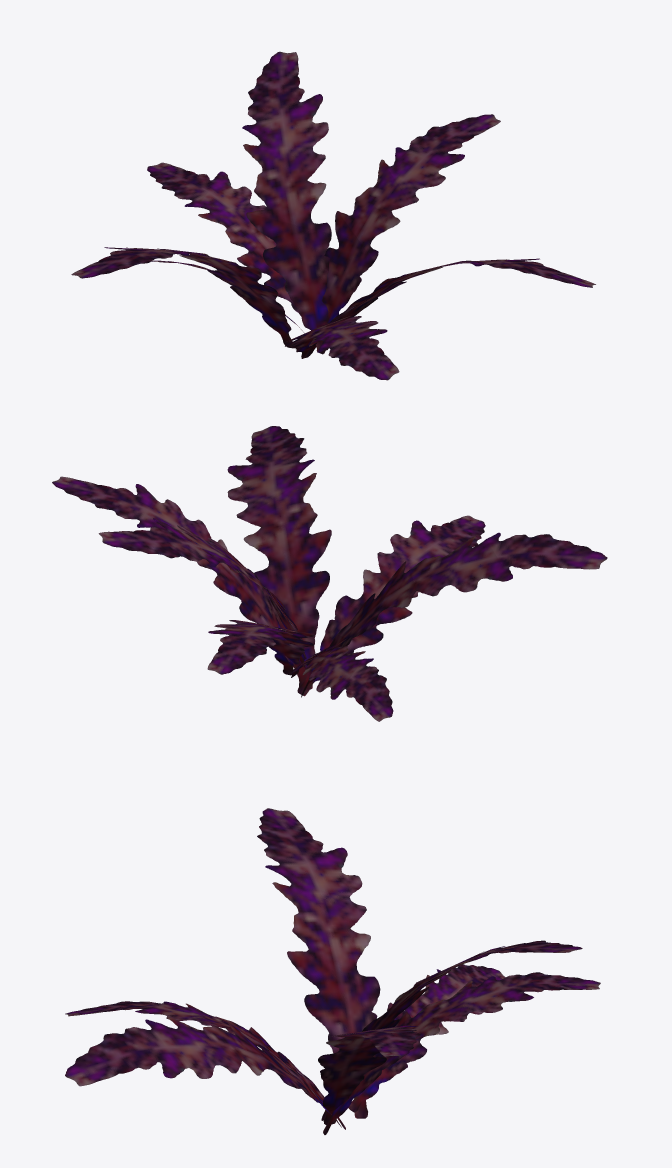
The model's file is Spindlewit C1.fbx.
3 renders of one model, top to bottom at view 1: azimuth 30°, elevation 25°; view 2: azimuth 150°, elevation 25°; view 3: azimuth 270°, elevation 25°, orthographic. The views are drawn at different scales.
Parts seen in each view (by area): view 1: Spindlewit C1; view 2: Spindlewit C1; view 3: Spindlewit C1.
Boxes of the visible parts, x1,y1,x2,y2 form: Spindlewit C1: (71,51,595,380); Spindlewit C1: (52,426,607,721); Spindlewit C1: (65,808,600,1134).
Bounding box in the file's own units: 124 × 47.49 × 110.
